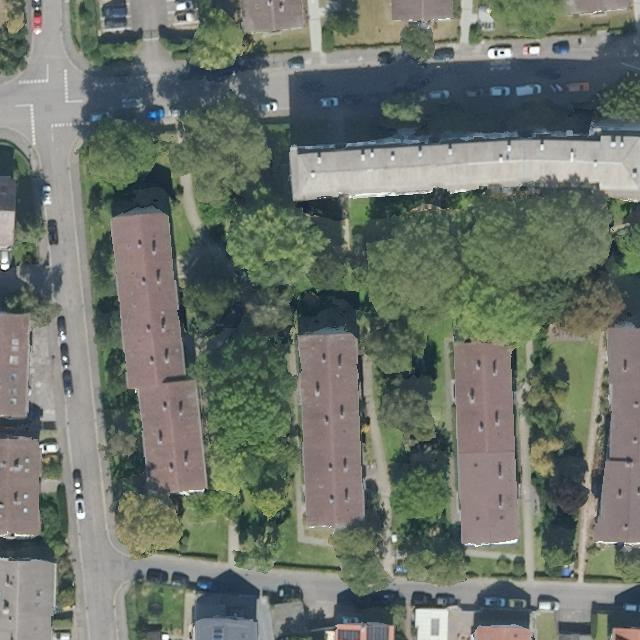PV: (365, 623, 392, 639), (334, 627, 362, 639)
